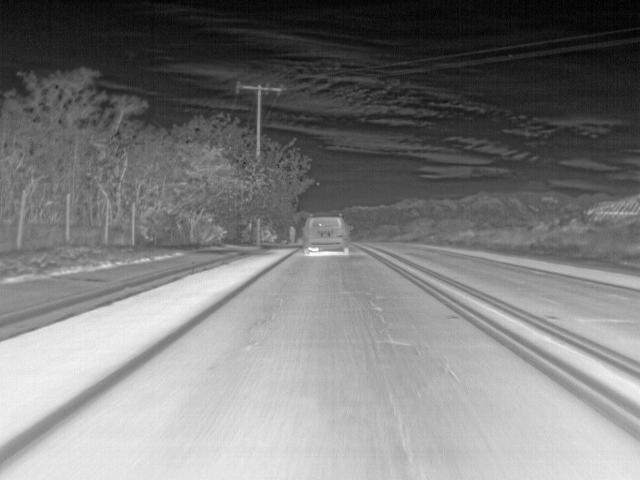car: (304, 215, 350, 253)
person: (288, 224, 298, 245)
